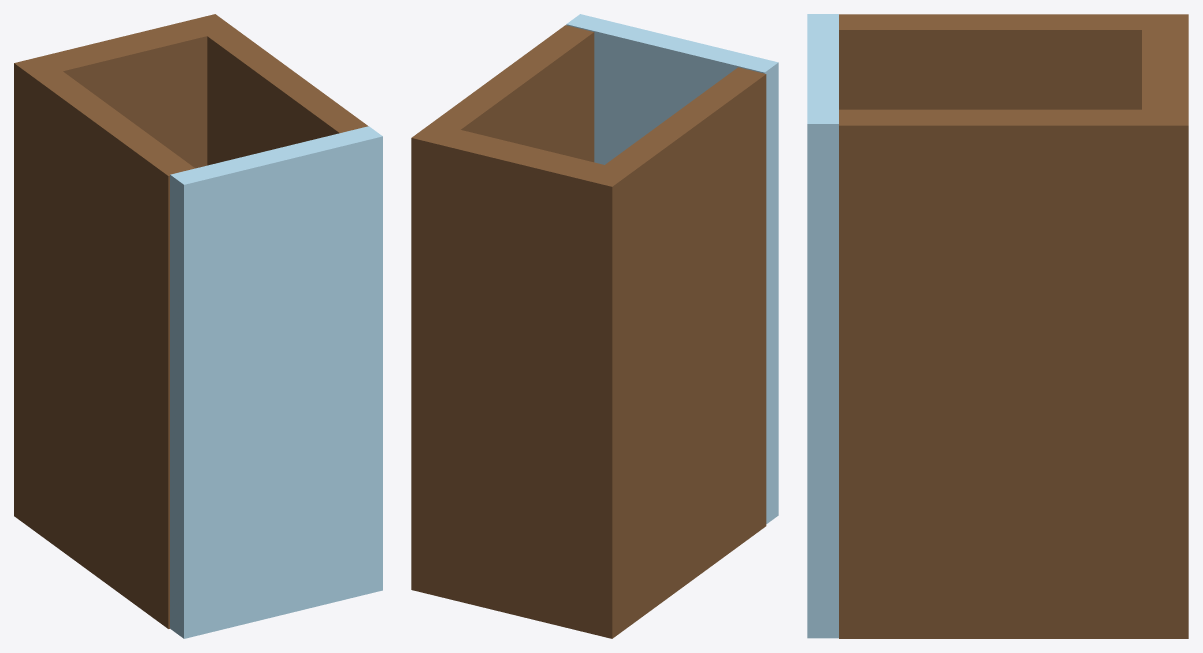
The model's file is lamp.fbx.
The picture shows the model from 3 angles, left to right: view 1: azimuth 30°, elevation 25°; view 2: azimuth 150°, elevation 25°; view 3: azimuth 270°, elevation 25°; orthographic projection. The views are drawn at different scales.
Visible parts, largest first — view 1: box, window; view 2: box, window; view 3: box, window.
Part boxes in pixels (<box>): box: <box>14,14,368,628</box>; window: <box>170,126,382,638</box>; box: <box>411,25,766,638</box>; window: <box>566,14,778,523</box>; box: <box>839,14,1188,638</box>; window: <box>807,14,838,638</box>.
Size of the model in its own units: 55.95 by 121 by 81.08.
1 material, 1 textured.
